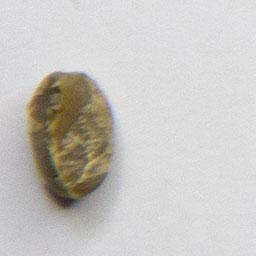peaberry: (25, 67, 119, 206)
